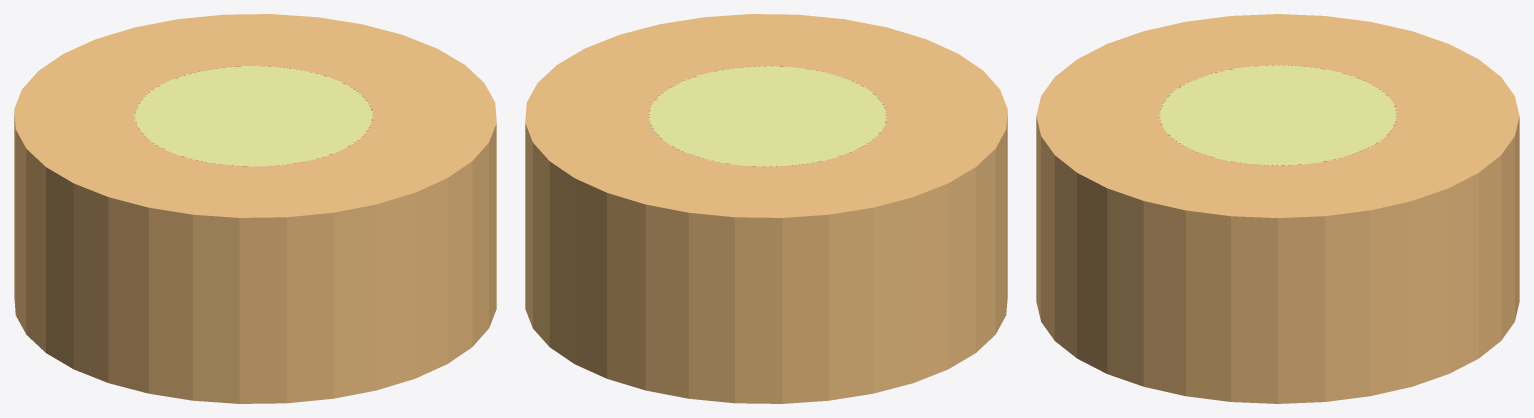
The model's file is NakedCob.fbx.
The picture shows the model from 3 angles, left to right: view 1: azimuth 30°, elevation 25°; view 2: azimuth 150°, elevation 25°; view 3: azimuth 270°, elevation 25°; orthographic projection.
Visible parts, largest first — view 1: cornCob; view 2: cornCob; view 3: cornCob.
Part boxes in pixels (<box>): cornCob: <box>14,14,496,403</box>; cornCob: <box>525,14,1007,403</box>; cornCob: <box>1036,14,1519,403</box>.
Size of the model in its own units: 0.2173 by 0.0922 by 0.2173.
Materials: 1 (1 with a texture image).
